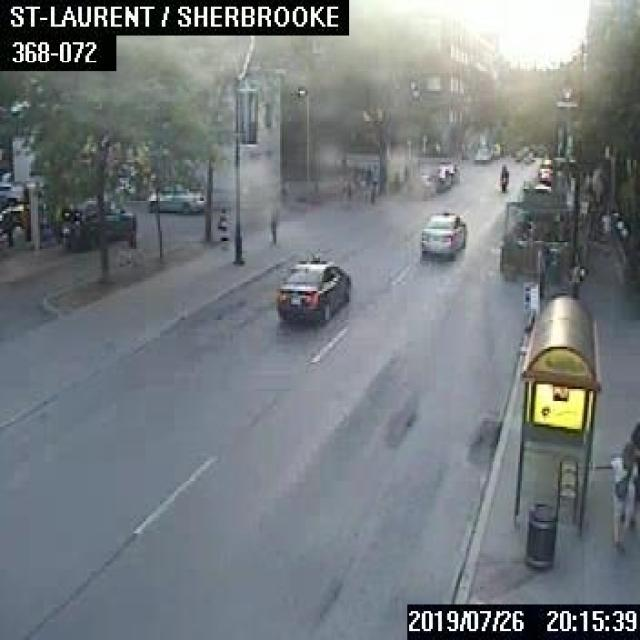construction: (367, 181, 374, 203)
pedestrian: (609, 440, 638, 550), (629, 417, 638, 506), (215, 205, 227, 245), (266, 209, 277, 242)
vehicle: (273, 256, 349, 320), (56, 197, 134, 248), (0, 179, 55, 245), (418, 211, 464, 256), (147, 181, 203, 212), (412, 173, 434, 195), (430, 167, 449, 189), (472, 138, 490, 160), (438, 161, 458, 180), (537, 156, 551, 180), (498, 162, 508, 191)
